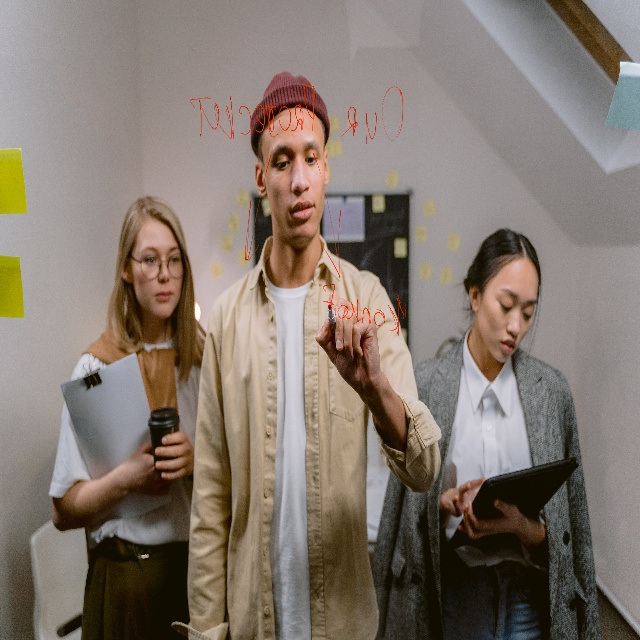Gafas: (139, 252, 184, 280)
Sin_guantes: (315, 298, 378, 389), (455, 500, 523, 546), (126, 446, 170, 499), (440, 480, 487, 521), (152, 435, 191, 484)
